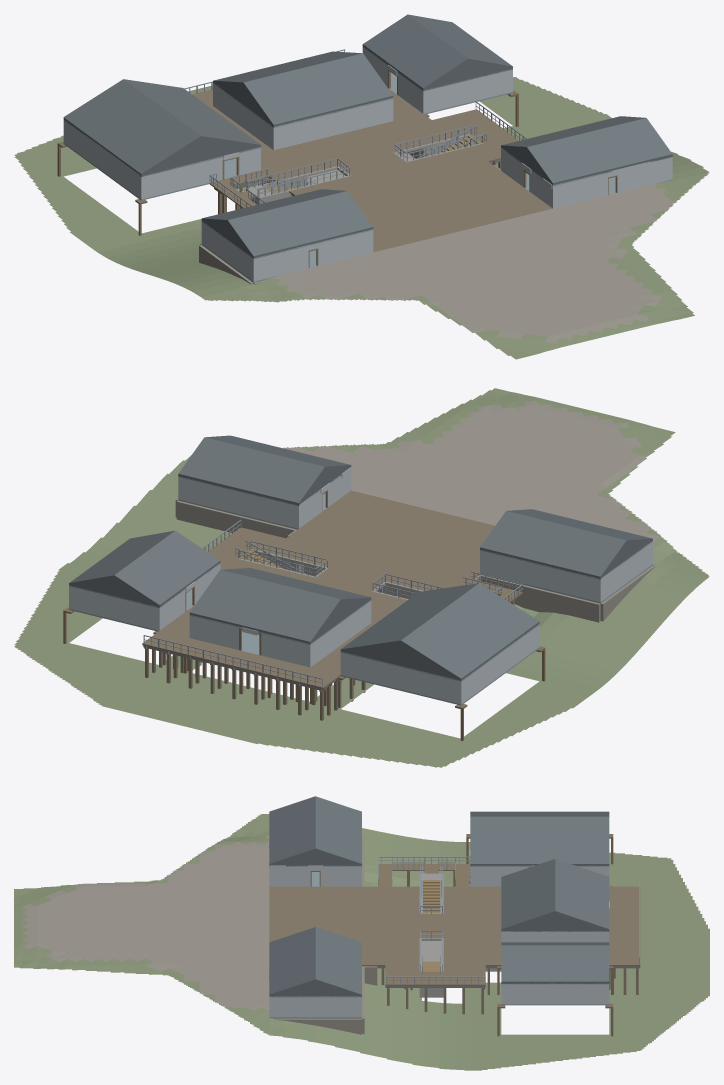
The model's file is clean-doorways.glb.
The picture shows the model from 3 angles, top to bottom: view 1: azimuth 30°, elevation 25°; view 2: azimuth 150°, elevation 25°; view 3: azimuth 270°, elevation 25°; orthographic projection. The views are drawn at different scales.
Visible parts, largest first — view 1: Saved editor geographic earthworks WLD-06, WLD-06 quay platform structural surface region0, boathouse roof west, fish-house roof south, west-cottage roof south, east-cottage roof south, Wharf cellar roof deck rectangular openings region0, net-store roof west, boathouse roof east, Wharf east pier-head deck rectangular openings region0, WLD-06 clean fish S end, WLD-06 clean net S end (+19 smaller); view 2: Saved editor geographic earthworks WLD-06, WLD-06 quay platform structural surface region0, boathouse roof west, fish-house roof north, east-cottage roof north, west-cottage roof north, net-store roof west, WLD-06 cross dock structural surface region0, boathouse roof east, WLD-06 clean boathouse N end, WLD-06 clean cottage-a N end, WLD-06 clean cottage-b N end (+17 smaller); view 3: Saved editor geographic earthworks WLD-06, WLD-06 quay platform structural surface region0, boathouse roof east, Wharf cellar roof deck rectangular openings region0, net-store roof east, fish-house roof south, fish-house roof north, Wharf east pier-head deck rectangular openings region0, WLD-06 cross dock structural surface region0, west-cottage roof north, west-cottage roof south, east-cottage roof south (+14 smaller).
Boxes of the visible parts, x1,y1,x2,y2 form: Saved editor geographic earthworks WLD-06: (14, 77, 709, 359); WLD-06 quay platform structural surface region0: (322, 152, 552, 252); boathouse roof west: (63, 79, 200, 174); fish-house roof south: (243, 53, 393, 126); west-cottage roof south: (227, 191, 373, 257); east-cottage roof south: (527, 118, 672, 184); Wharf cellar roof deck rectangular openings region0: (274, 121, 444, 188); net-store roof west: (362, 14, 468, 89); boathouse roof east: (124, 79, 260, 146); Wharf east pier-head deck rectangular openings region0: (402, 109, 518, 162); WLD-06 clean fish S end: (272, 98, 393, 150); WLD-06 clean net S end: (422, 69, 512, 113); Saved editor geographic earthworks WLD-06: (14, 388, 709, 767); WLD-06 quay platform structural surface region0: (273, 490, 494, 588); boathouse roof west: (401, 583, 539, 680); fish-house roof north: (189, 570, 340, 643); east-cottage roof north: (178, 437, 324, 504); west-cottage roof north: (480, 511, 626, 578); net-store roof west: (114, 530, 220, 606); WLD-06 cross dock structural surface region0: (142, 631, 340, 688); boathouse roof east: (340, 583, 478, 650); WLD-06 clean boathouse N end: (340, 652, 462, 704); WLD-06 clean cottage-a N end: (480, 550, 601, 602); WLD-06 clean cottage-b N end: (178, 477, 299, 528); Saved editor geographic earthworks WLD-06: (14, 814, 709, 1070); WLD-06 quay platform structural surface region0: (269, 886, 408, 966); boathouse roof east: (470, 816, 609, 865); Wharf cellar roof deck rectangular openings region0: (408, 899, 501, 951); net-store roof east: (501, 945, 609, 982); fish-house roof south: (501, 859, 555, 930); fish-house roof north: (555, 859, 609, 930); Wharf east pier-head deck rectangular openings region0: (385, 952, 485, 985); WLD-06 cross dock structural surface region0: (609, 886, 640, 966); west-cottage roof north: (315, 796, 361, 865); west-cottage roof south: (269, 796, 315, 865); east-cottage roof south: (269, 927, 315, 995).
Size of the model in its own units: 70 by 11.34 by 90.
39 materials, 18 textured.
